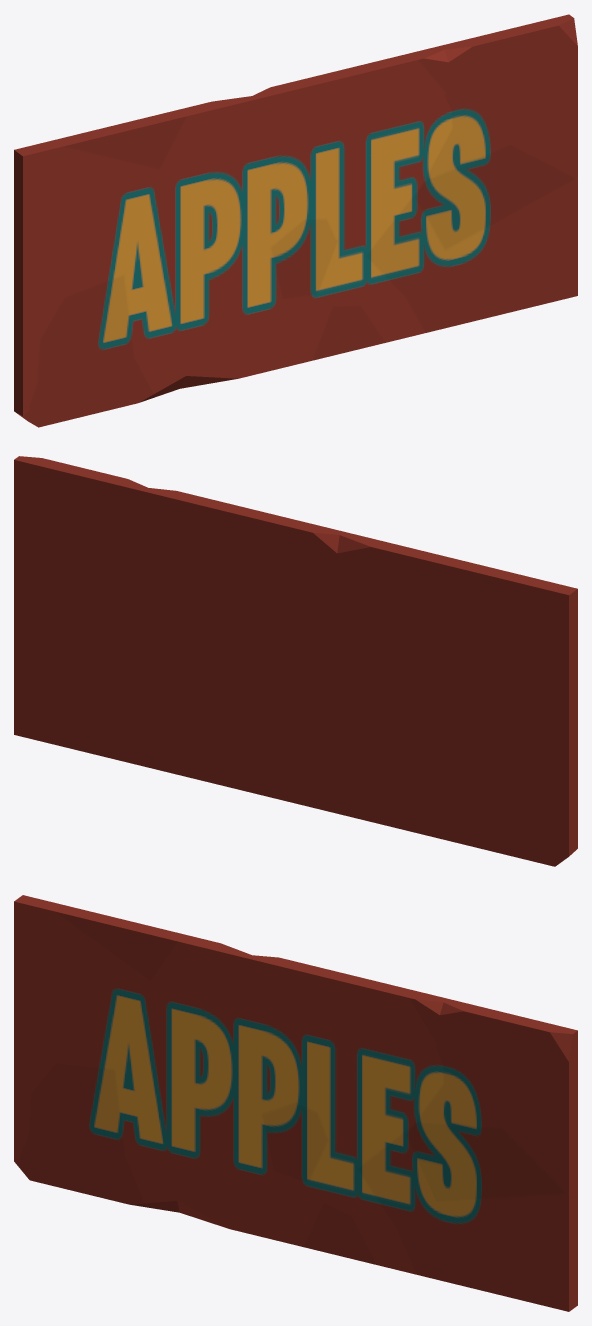
The model's file is SM_Prop_Sign_Apples_01.fbx.
3 renders of one model, top to bottom at view 1: azimuth 30°, elevation 25°; view 2: azimuth 150°, elevation 25°; view 3: azimuth 330°, elevation 25°, orthographic.
Parts seen in each view (by area): view 1: SM_Prop_Sign_Apples_01; view 2: SM_Prop_Sign_Apples_01; view 3: SM_Prop_Sign_Apples_01.
Boxes of the visible parts, left/top/right/bottom form: SM_Prop_Sign_Apples_01: left=14, top=14, right=577, bottom=427; SM_Prop_Sign_Apples_01: left=14, top=456, right=577, bottom=866; SM_Prop_Sign_Apples_01: left=14, top=895, right=577, bottom=1311.
Bounding box in the file's own units: 86.87 × 41.13 × 2.41.
